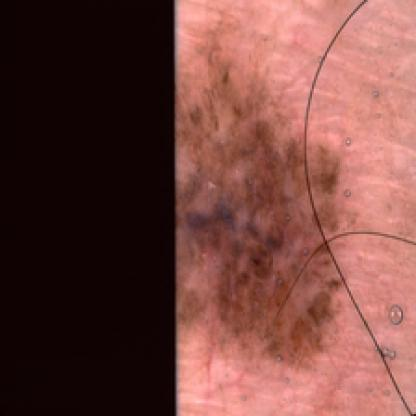malignant: (186, 35, 349, 270)
